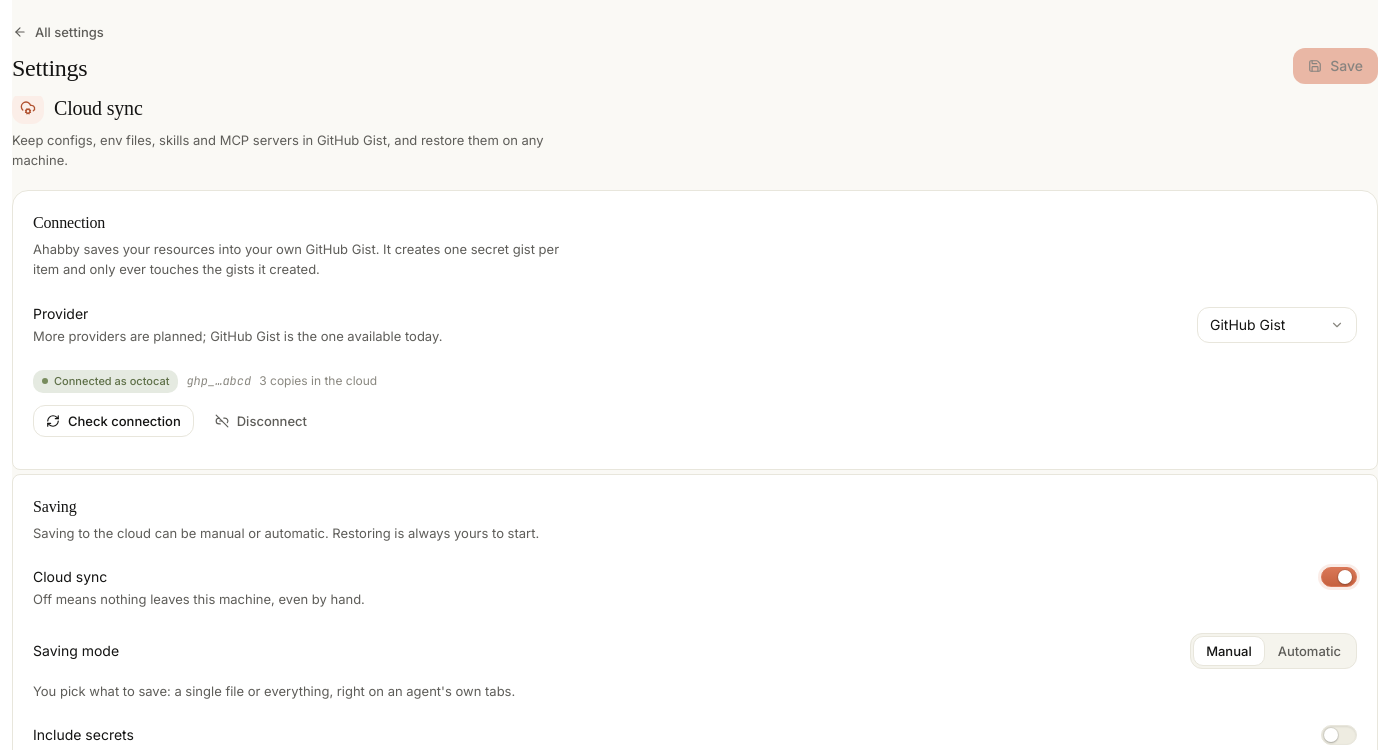
Test: Settings → cloud sync › names the connected account and can ask GitHub again
Expected: the heading "Cloud sync" is shown, [54,94,143,122]
Expected: the text "Connected as octocat" is shown, [33,370,178,393]
Click the button "Check connection": (113, 421) [33,405,194,437]
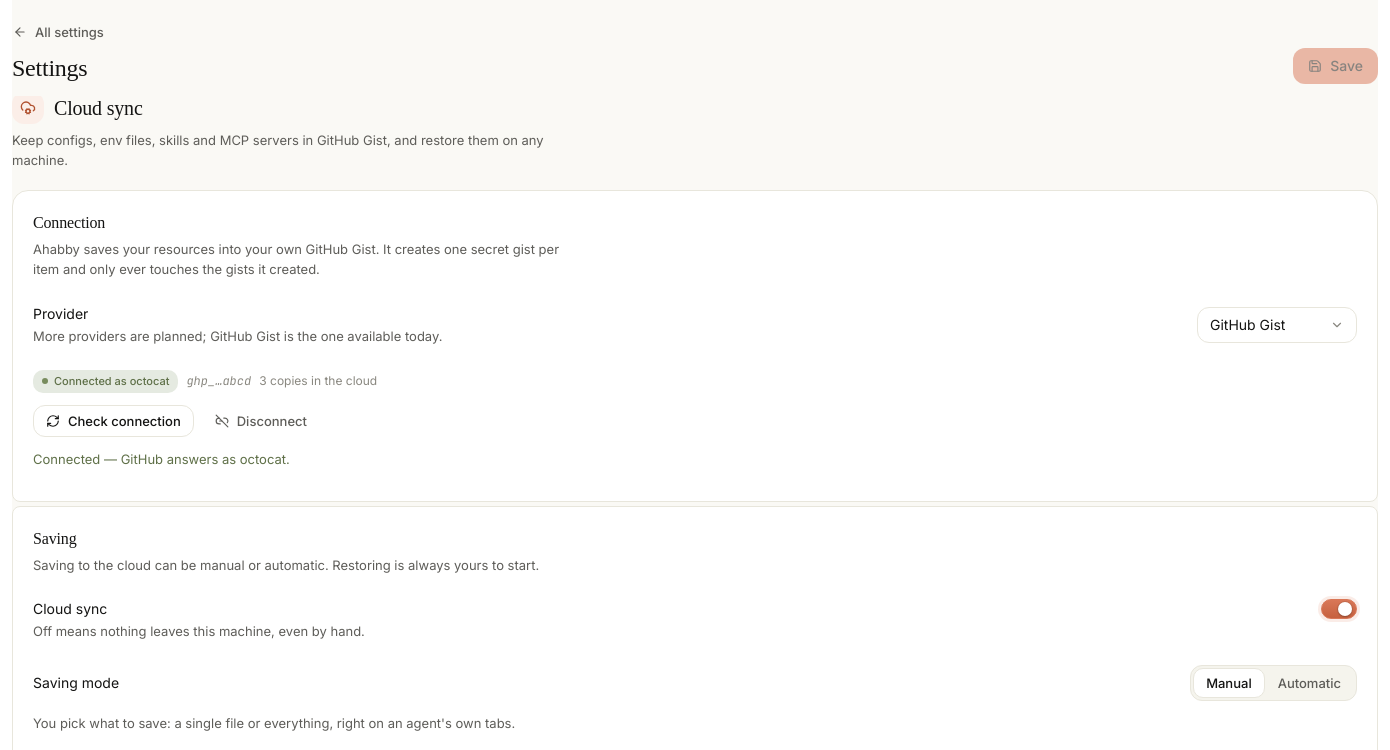
Now the text "Connected — GitHub answers as octocat." is shown, box [33,451,290,467]
